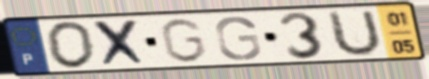3: (278, 10, 326, 61)
G: (157, 16, 209, 64), (212, 14, 264, 62)
O: (43, 20, 98, 71)
U: (327, 8, 385, 60)
X: (90, 17, 151, 69)
